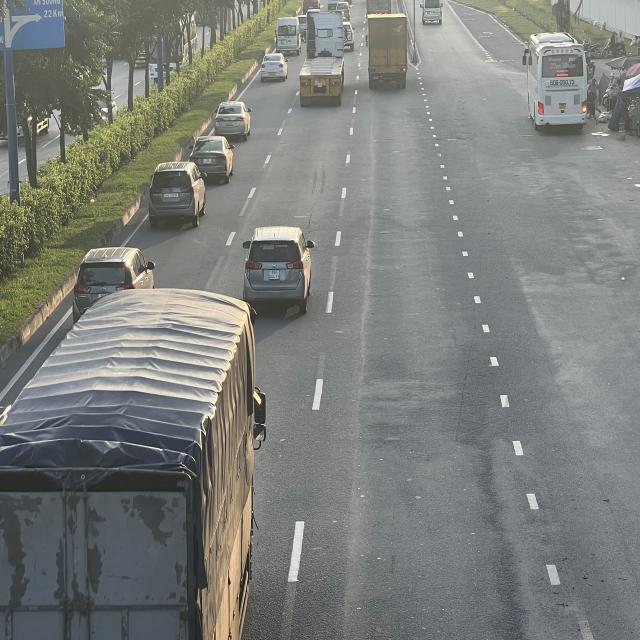car: (70, 246, 154, 334), (243, 224, 315, 309), (147, 162, 206, 226), (190, 134, 236, 181), (213, 101, 252, 142), (262, 52, 291, 83)
coach: (526, 34, 591, 132)
container: (298, 13, 344, 106)
truck: (0, 284, 268, 638), (364, 9, 406, 86)
van: (276, 15, 302, 55), (422, 1, 444, 27)
